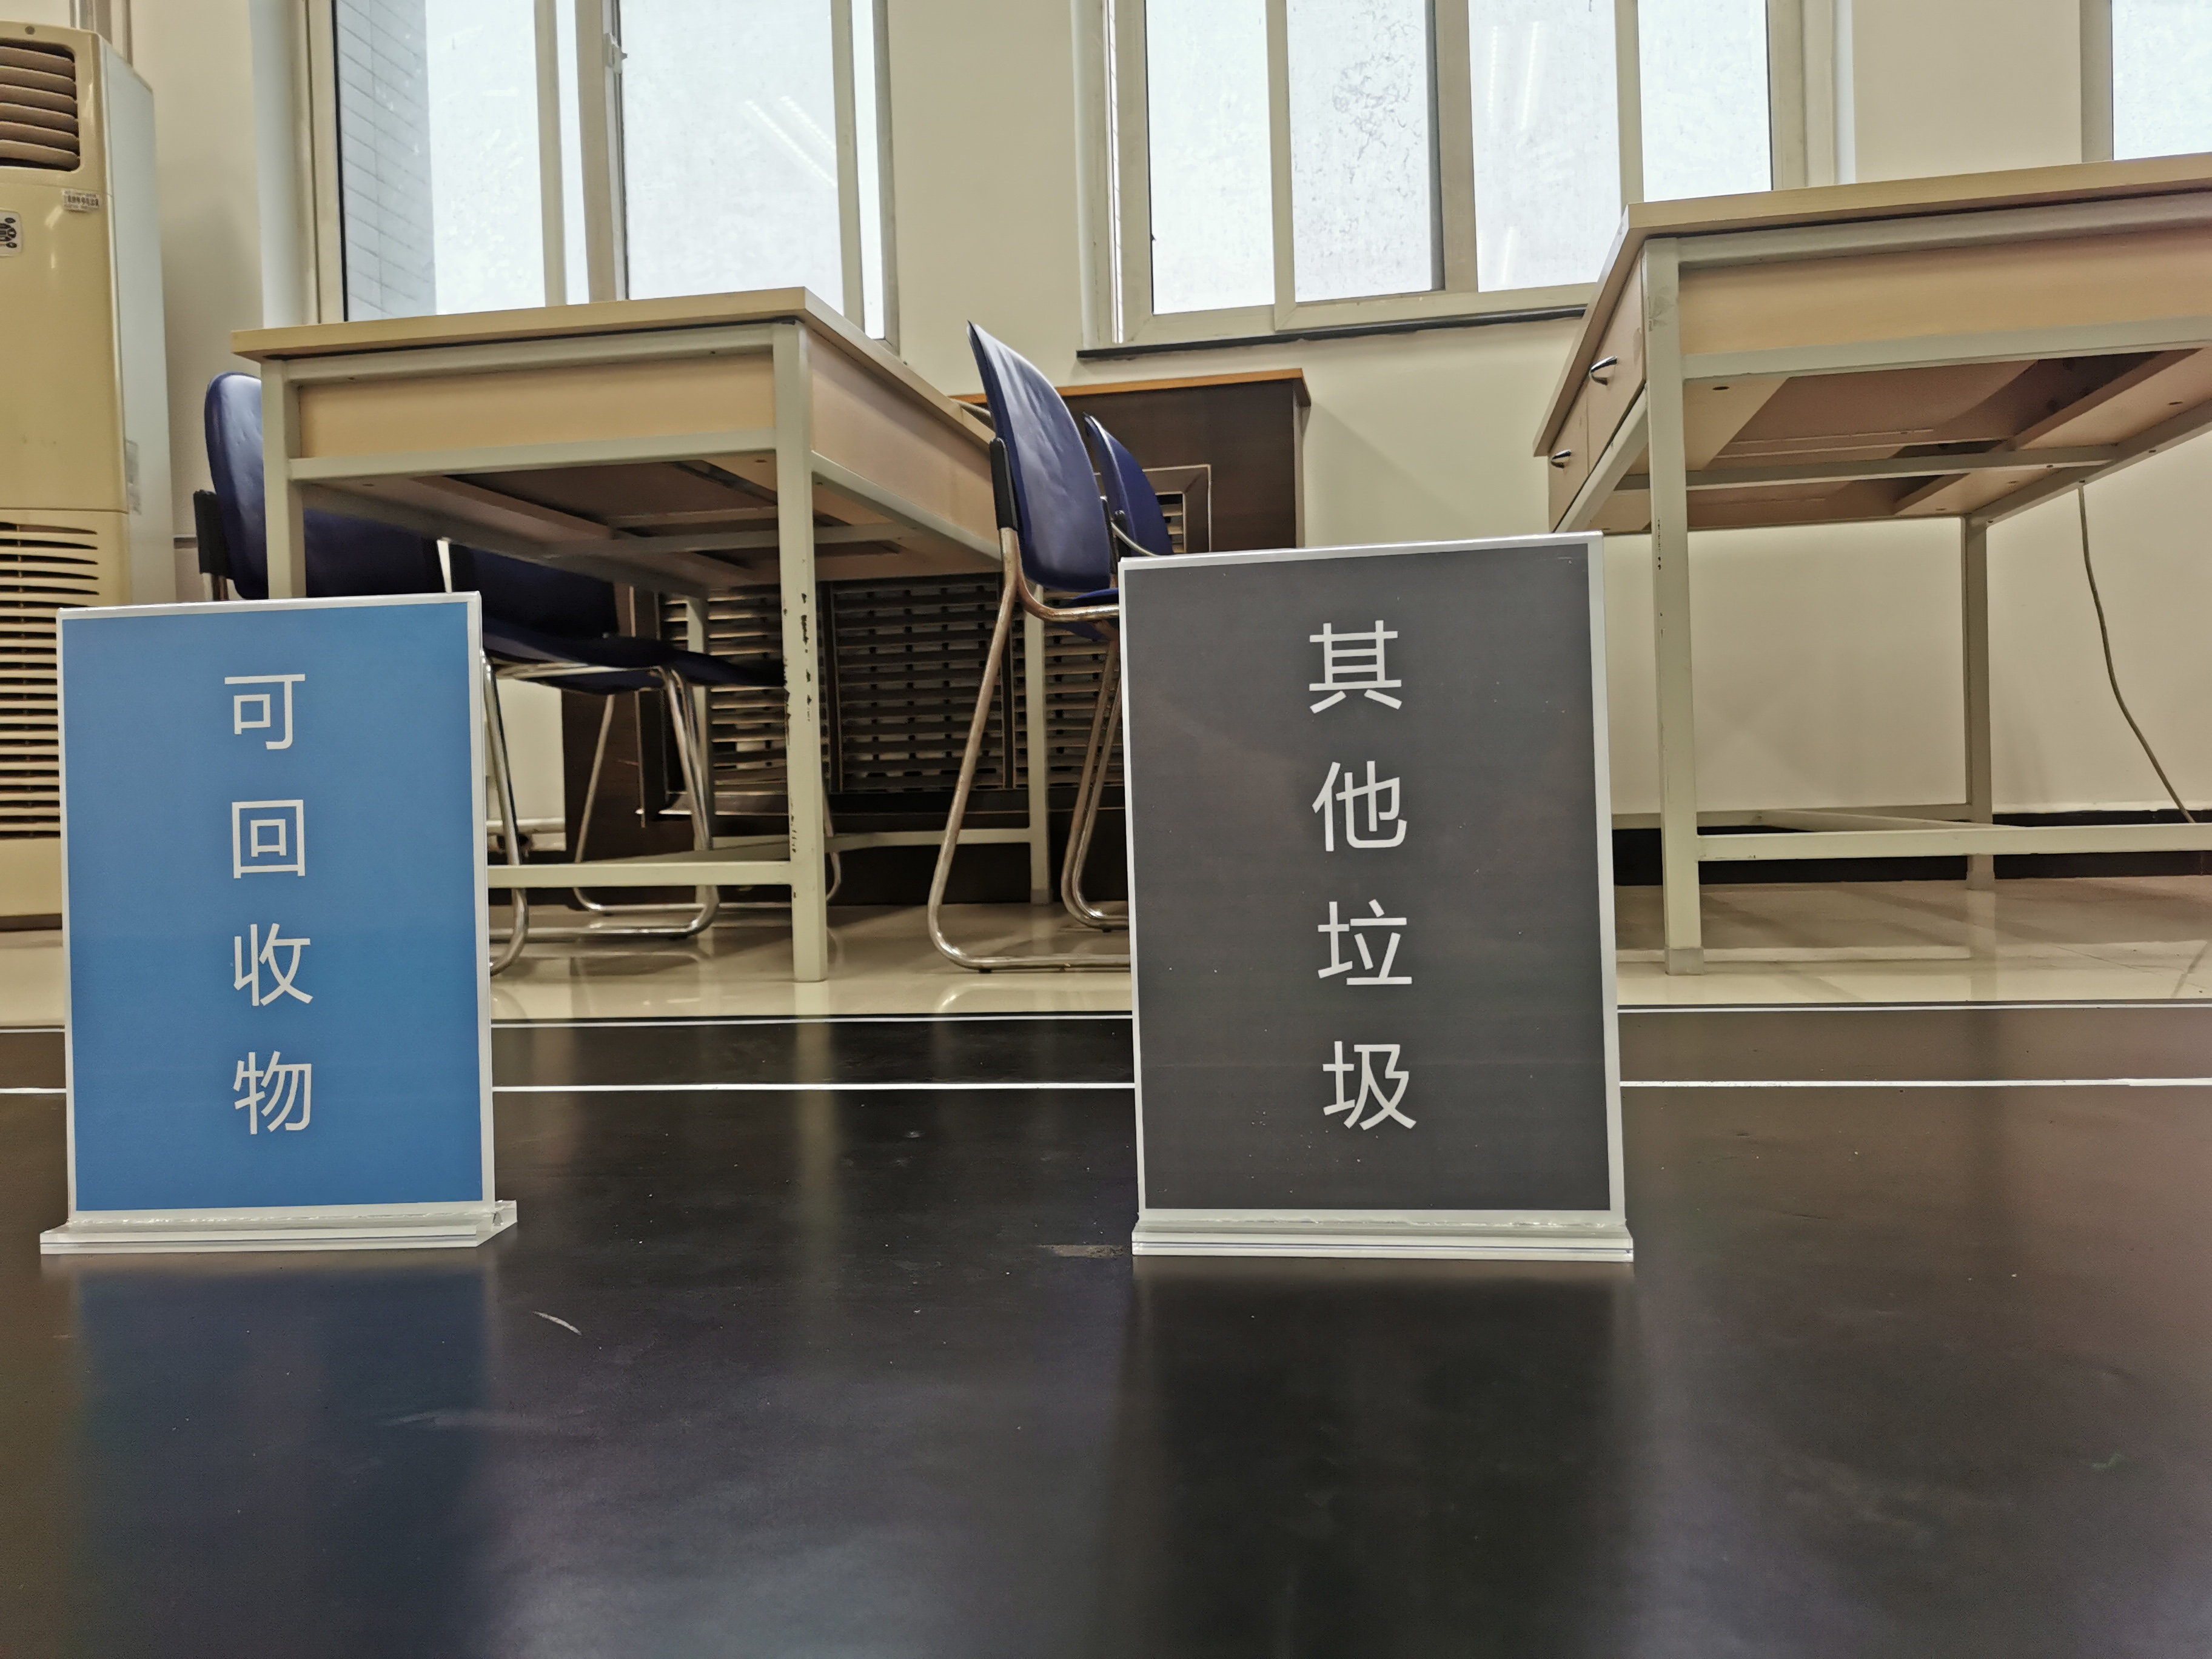black: (1150, 589, 1576, 1201)
blue: (75, 631, 458, 1194)
